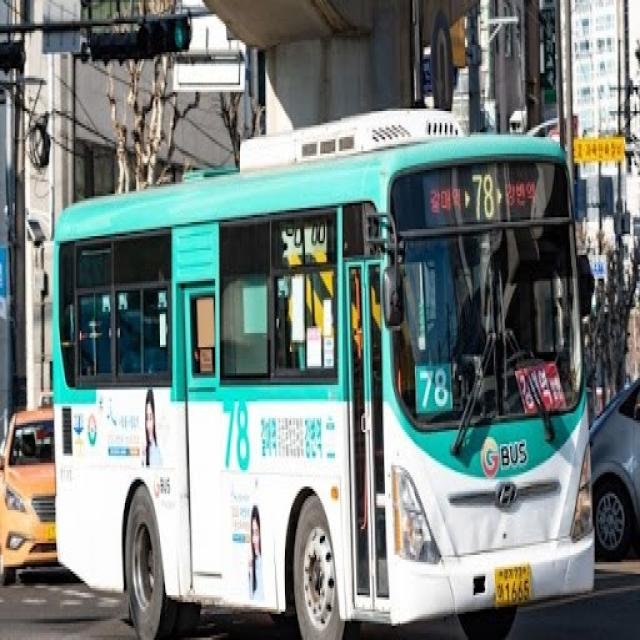bus-number: (470, 173, 498, 223)
